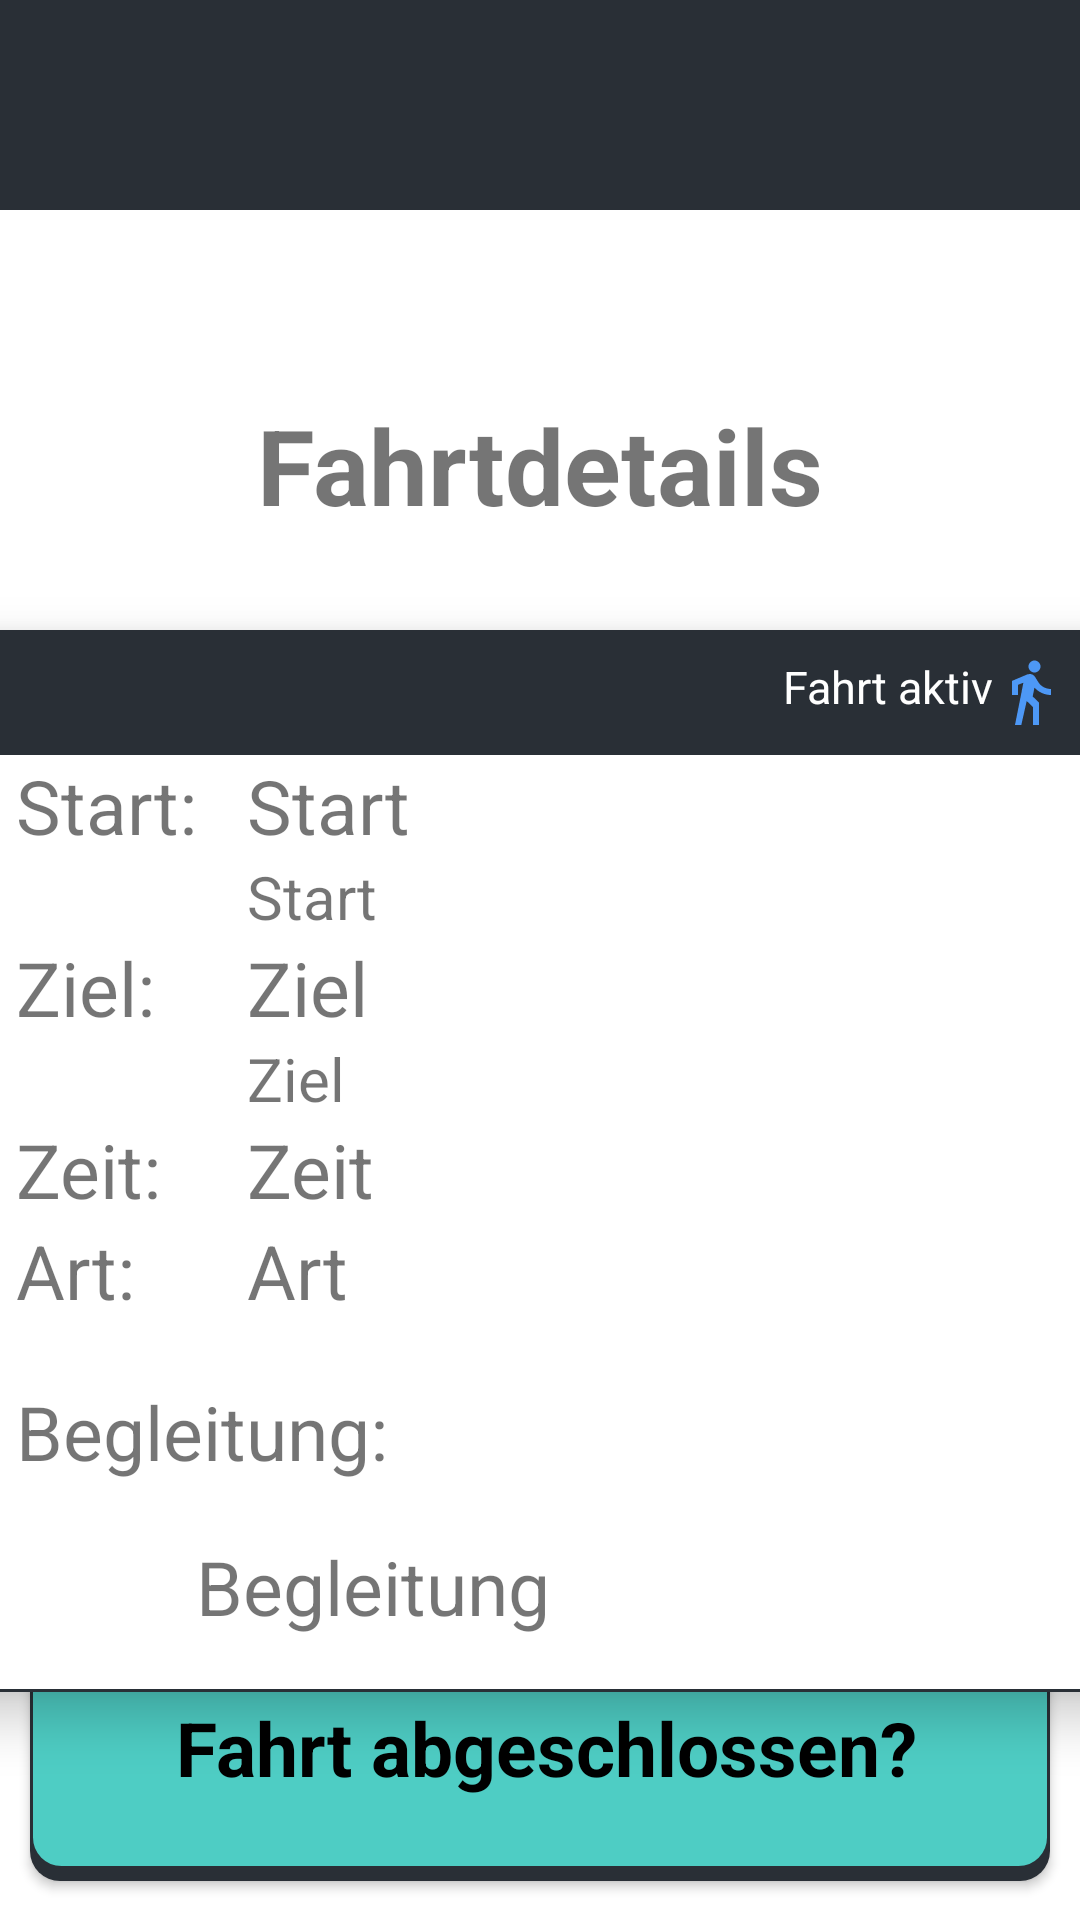

Named icons in this screenshot (1080px×1920px) and their centers, (x,y):
directions walk: (1031,692)
